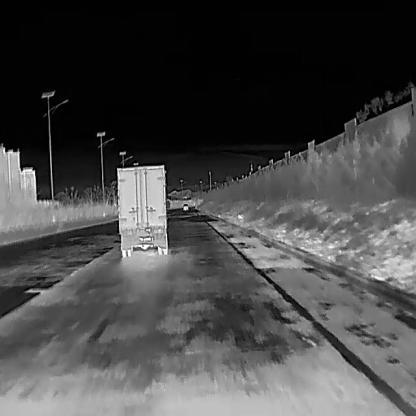car: (116, 164, 170, 257), (182, 202, 188, 210)
